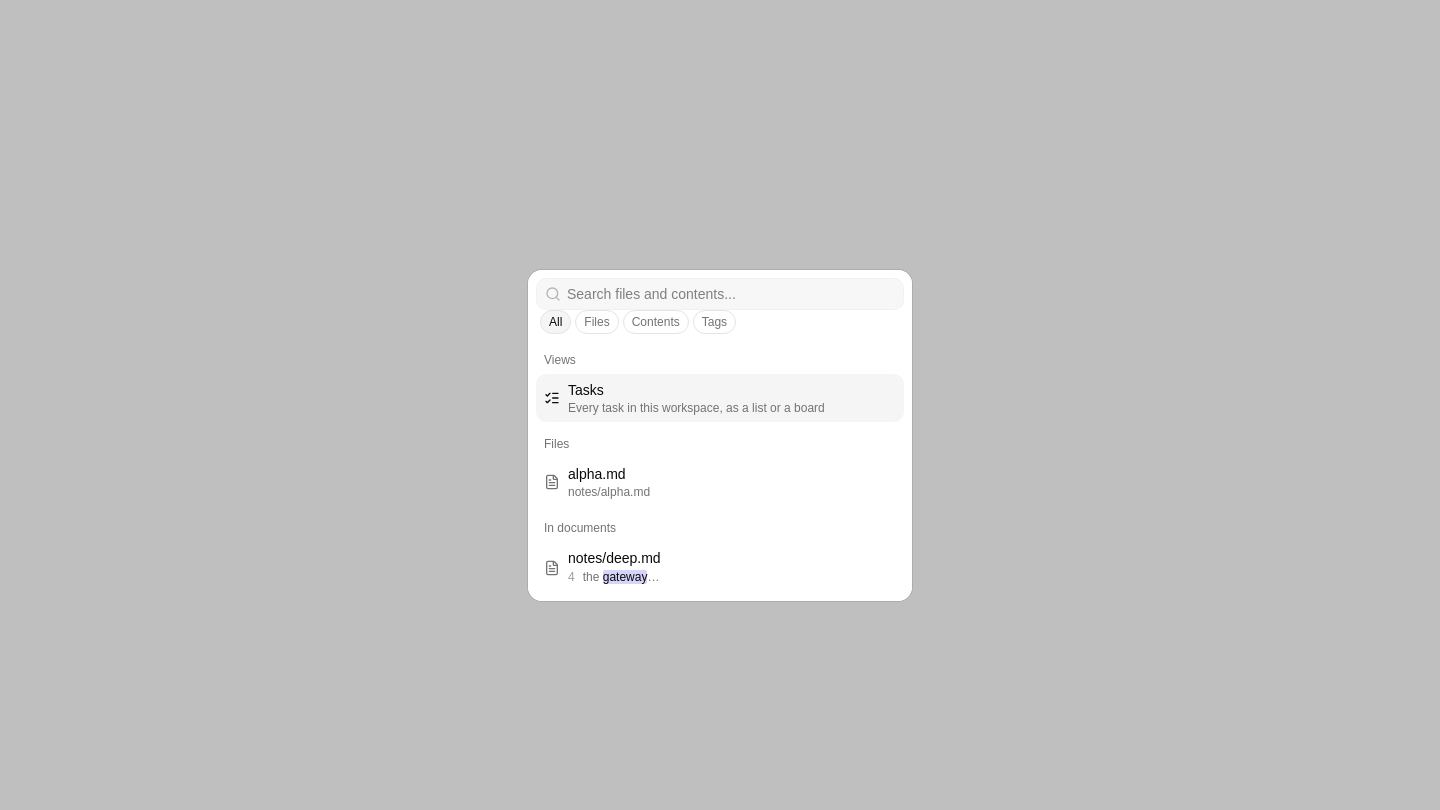
Test: QuickOpenDialog › hides document matches when narrowed to files
What coordinates should you click on to do the following:
click the button "Files"
I would click on:
 (597, 322)
Its box is [575,310,619,334].
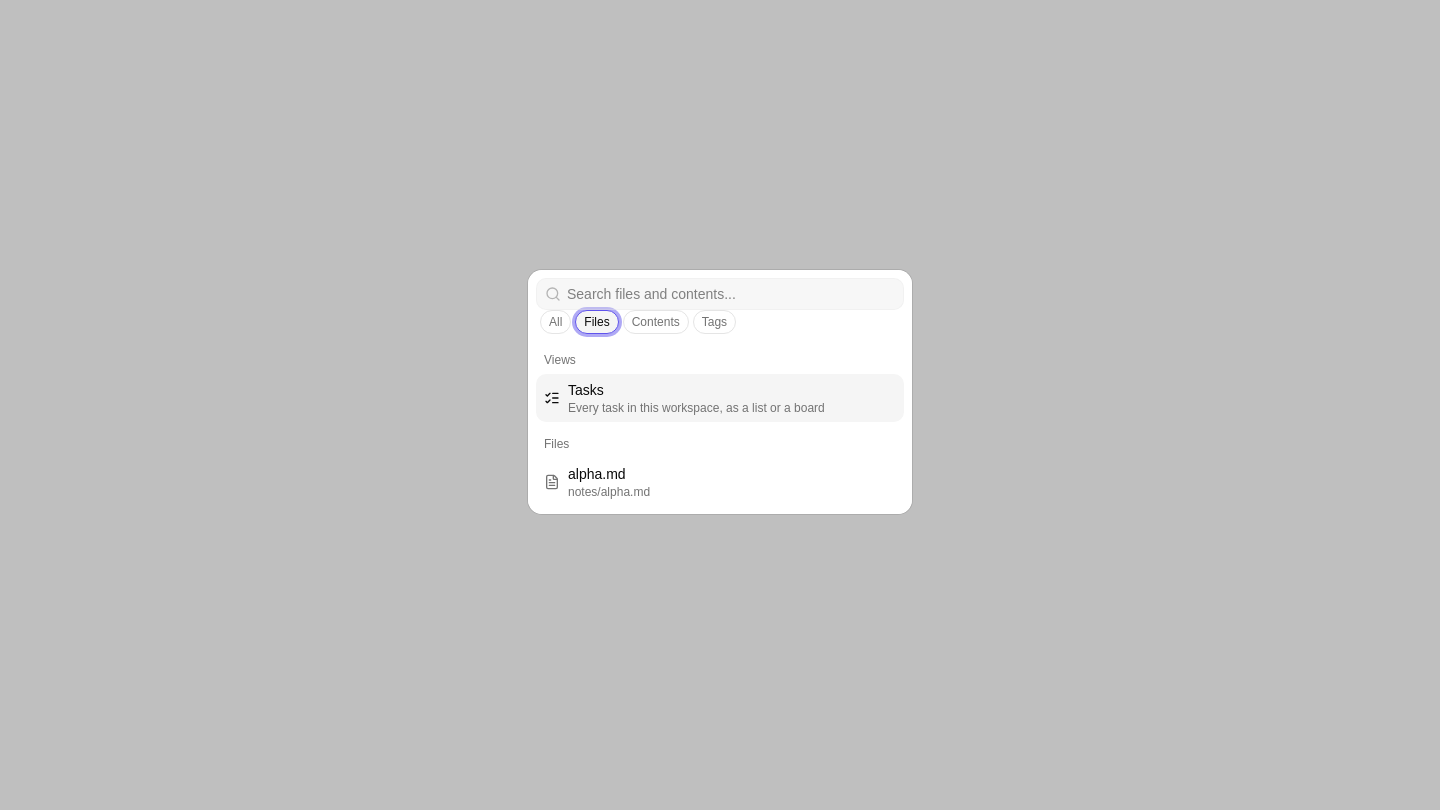
Check: the text "alpha.md" is shown, box [568,466,626,482]
Check: the text "In documents" is gone
